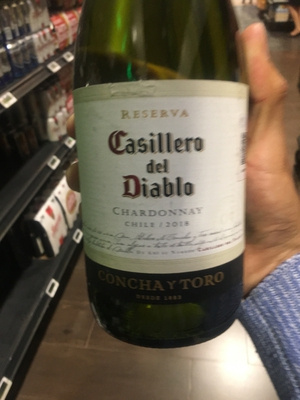casillero del diablo chardonnay: (72, 6, 256, 346)
